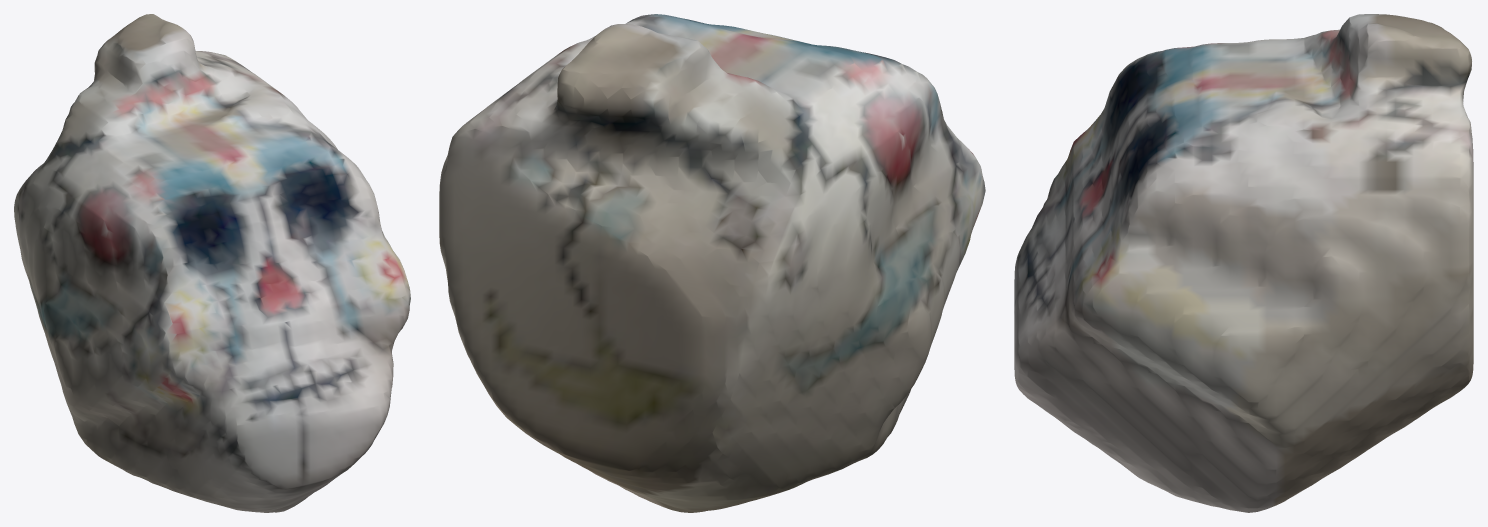
The model's file is prop.glb.
3 views of the same model, side by side, from view 1: azimuth 30°, elevation 25°; view 2: azimuth 150°, elevation 25°; view 3: azimuth 270°, elevation 25° (orthographic). The views are drawn at different scales.
Visible parts, largest first — view 1: Day of the Dead sugar skull candle holder; view 2: Day of the Dead sugar skull candle holder; view 3: Day of the Dead sugar skull candle holder.
Part boxes in pixels (x1=…): Day of the Dead sugar skull candle holder: x1=14, y1=14, x2=410, y2=512; Day of the Dead sugar skull candle holder: x1=439, y1=14, x2=985, y2=512; Day of the Dead sugar skull candle holder: x1=1014, y1=14, x2=1473, y2=512.
Bounding box in the file's own units: 0.1241 × 0.1558 × 0.1444.
